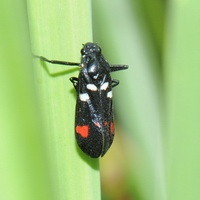insect: (34, 42, 127, 157)
